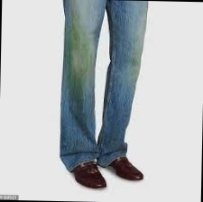earth: (67, 32, 89, 78)
